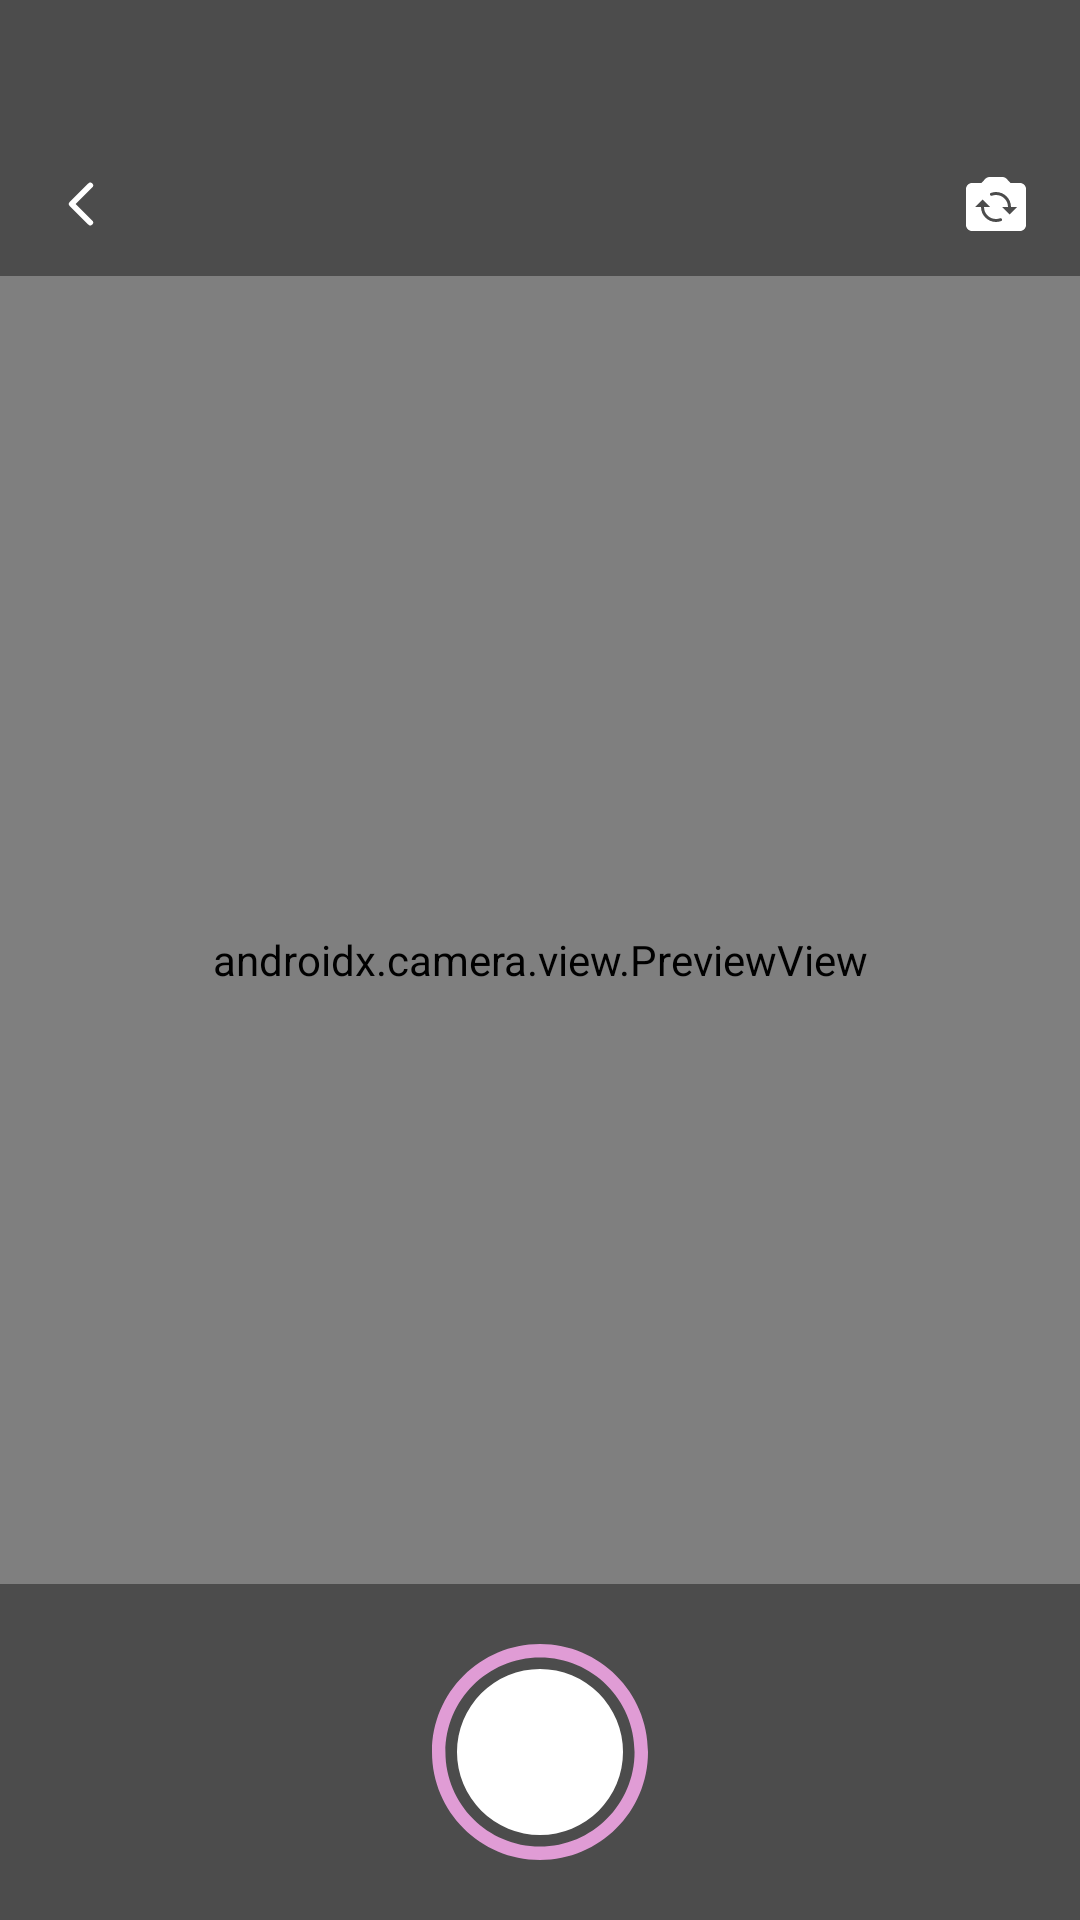

Icons on this 1080w x 1920h Android screen, each with its box as (x1, y1, x2, y2):
back camera: (68, 182, 94, 226)
imv camera: (432, 1644, 648, 1860)
